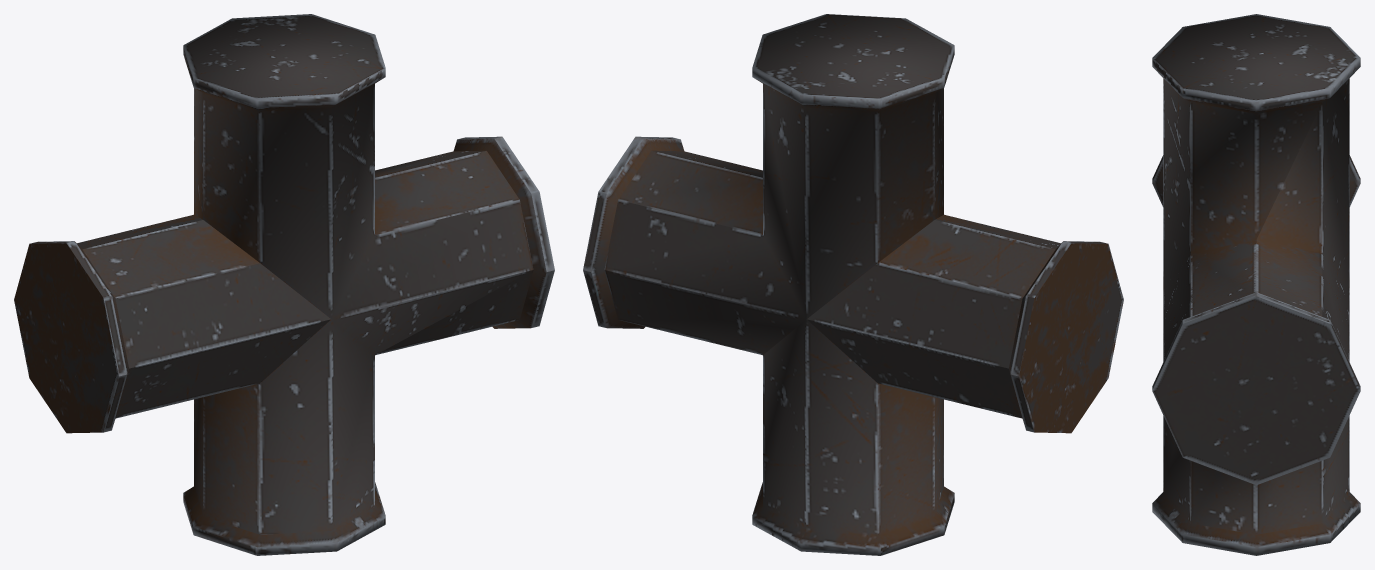
The model's file is pipe_x.gltf.
3 views of the same model, side by side, from view 1: azimuth 30°, elevation 25°; view 2: azimuth 150°, elevation 25°; view 3: azimuth 270°, elevation 25° (orthographic).
Visible parts, largest first — view 1: Cylinder.016; view 2: Cylinder.016; view 3: Cylinder.016.
Boxes of the visible parts, x1,y1,x2,y2 form: Cylinder.016: [14, 14, 554, 555]; Cylinder.016: [583, 14, 1123, 555]; Cylinder.016: [1152, 14, 1360, 555].
Size of the model in its own units: 6 by 6 by 2.5.
1 material, 1 textured.
